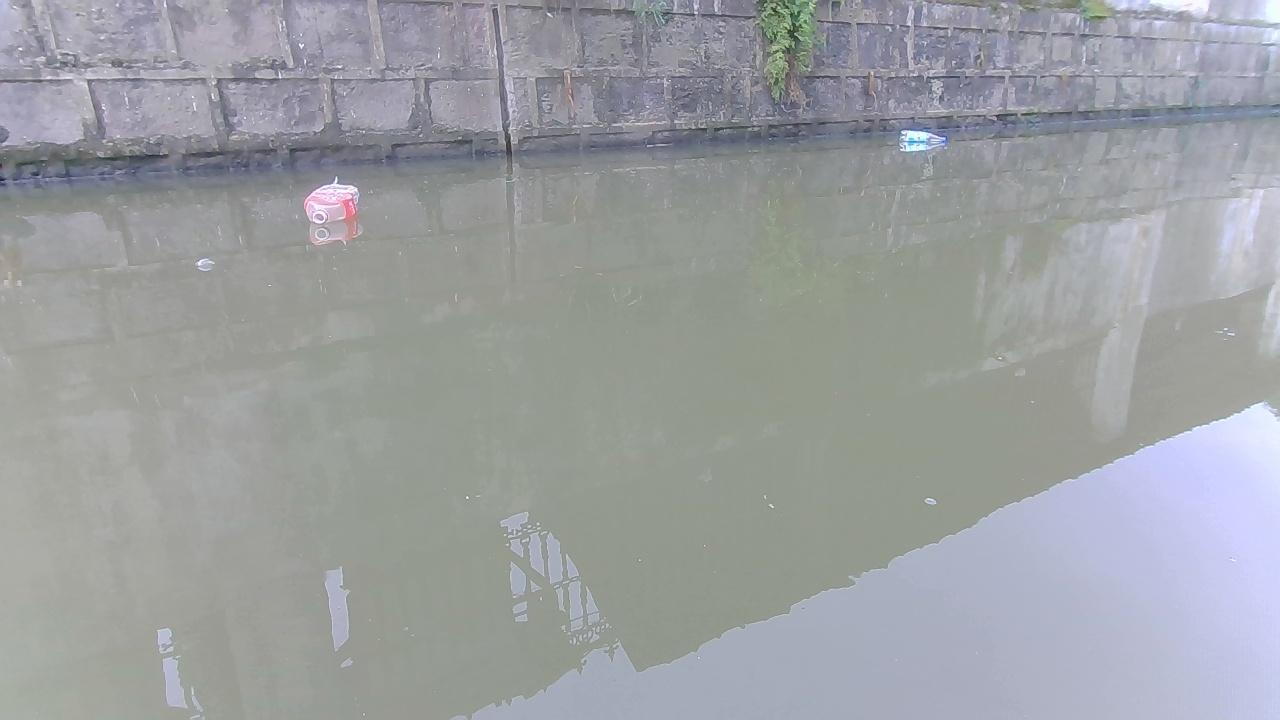bottle: (306, 179, 359, 229), (897, 128, 946, 148)
